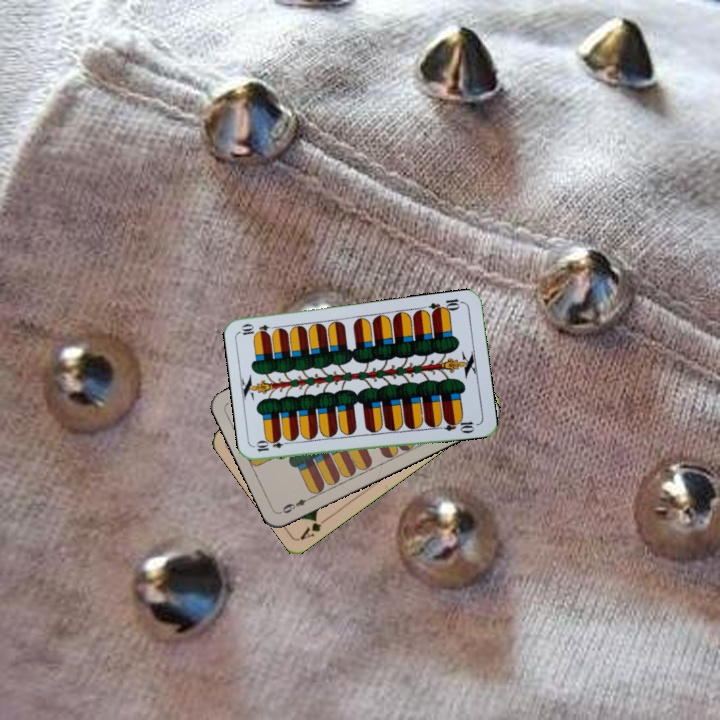E10: (425, 295, 466, 317), (252, 436, 293, 454)
E9: (278, 492, 315, 516)
GA: (296, 512, 332, 542)
